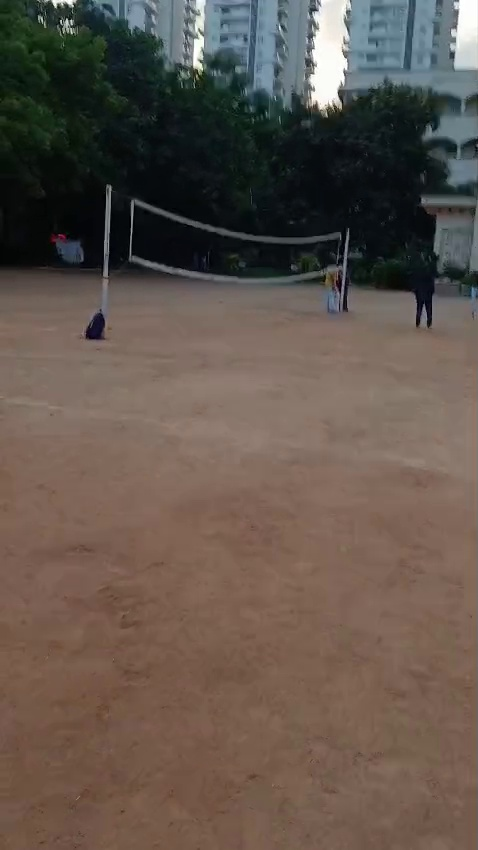bag: (78, 299, 106, 353)
